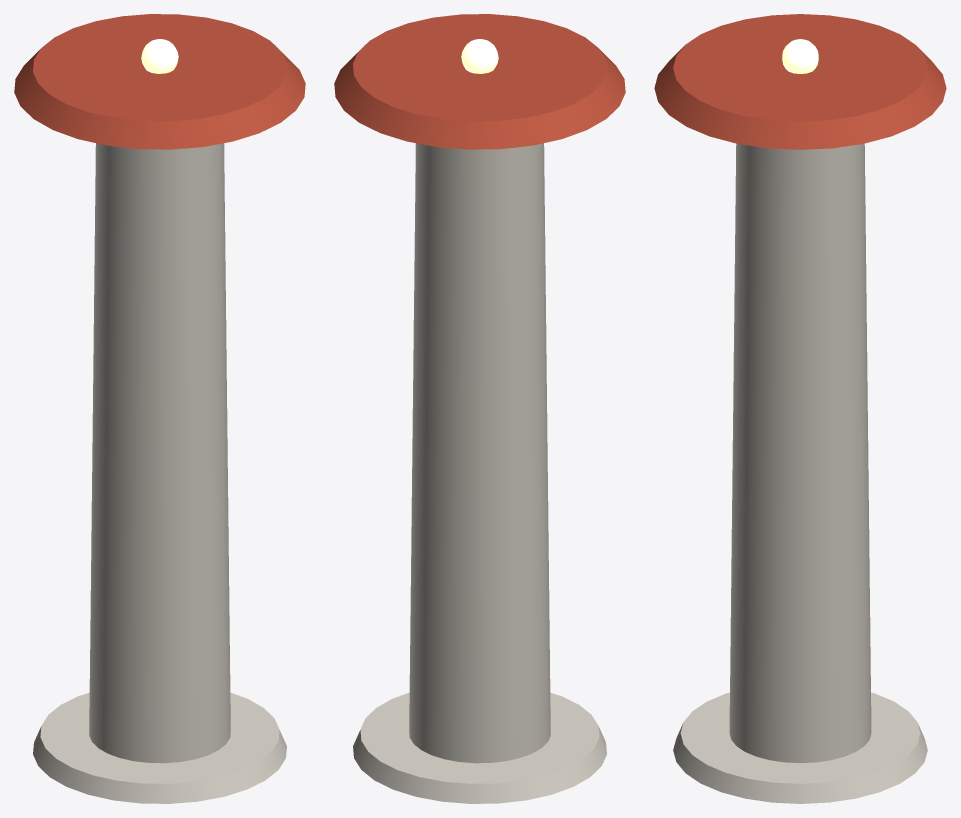
The model's file is spiral-tower.gltf.
3 renders of one model, left to right at view 1: azimuth 30°, elevation 25°; view 2: azimuth 150°, elevation 25°; view 3: azimuth 270°, elevation 25°, orthographic.
Parts seen in each view (by area): view 1: spiral-tower; view 2: spiral-tower; view 3: spiral-tower.
Part boxes in pixels (x1,y1,x2,y2): spiral-tower: [14, 14, 305, 803]; spiral-tower: [334, 14, 625, 803]; spiral-tower: [654, 14, 946, 803].
Bounding box in the file's own units: 7.8 × 20.9 × 7.8.
